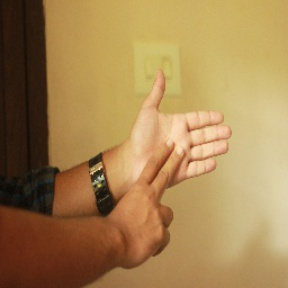N: (109, 68, 239, 265)
